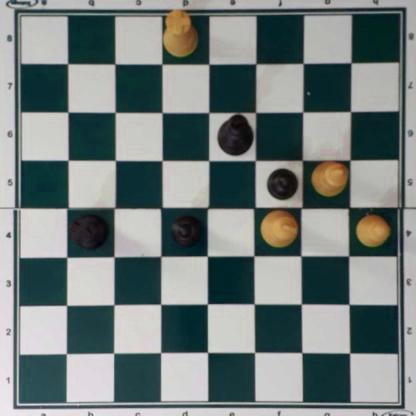black-king: (216, 114, 253, 156)
black-pawn: (170, 214, 205, 249), (265, 166, 298, 200)
black-rook: (71, 211, 109, 250)
white-bishop: (309, 157, 348, 199)
white-king: (260, 204, 299, 251)
white-pawn: (354, 212, 389, 246)
white-rook: (162, 10, 199, 57)
